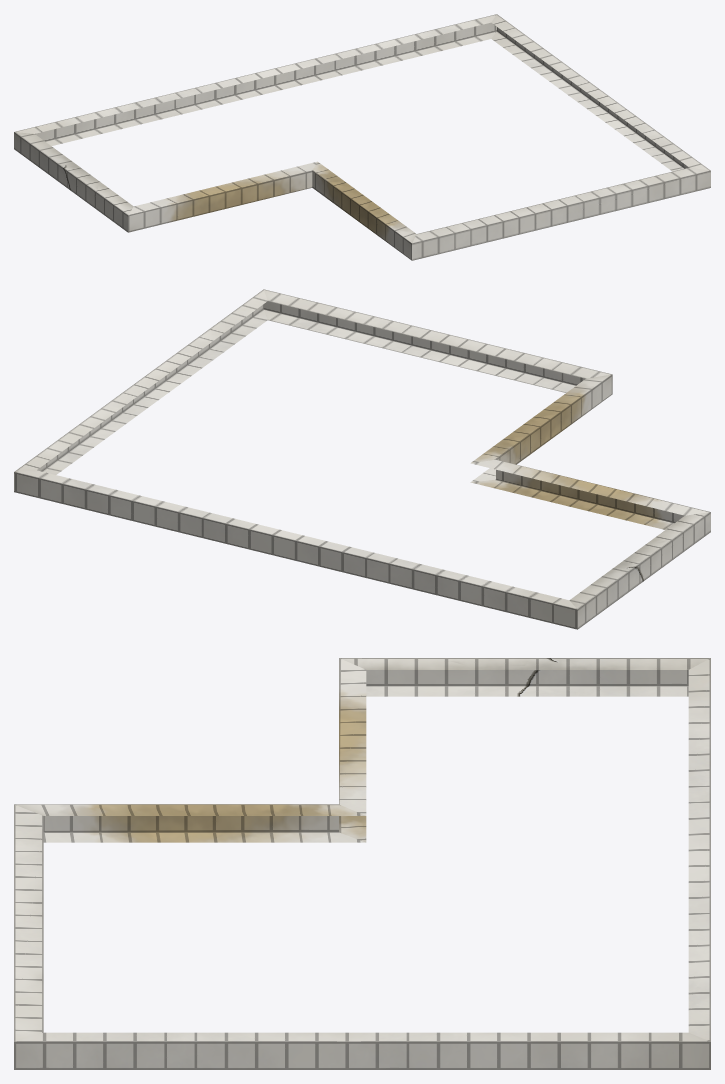
The model's file is TesteiraCasaLPequena 1.fbx.
3 renders of one model, top to bottom at view 1: azimuth 30°, elevation 25°; view 2: azimuth 150°, elevation 25°; view 3: azimuth 270°, elevation 25°, orthographic. The views are drawn at different scales.
Parts seen in each view (by area): view 1: TesteiraCasaLPequena; view 2: TesteiraCasaLPequena; view 3: TesteiraCasaLPequena.
Part boxes in pixels (x1=…): TesteiraCasaLPequena: x1=14, y1=14, x2=710, y2=260; TesteiraCasaLPequena: x1=14, y1=289, x2=710, y2=629; TesteiraCasaLPequena: x1=14, y1=658, x2=710, y2=1069.
Bounding box in the file's own units: 1704 × 57.96 × 1308.
